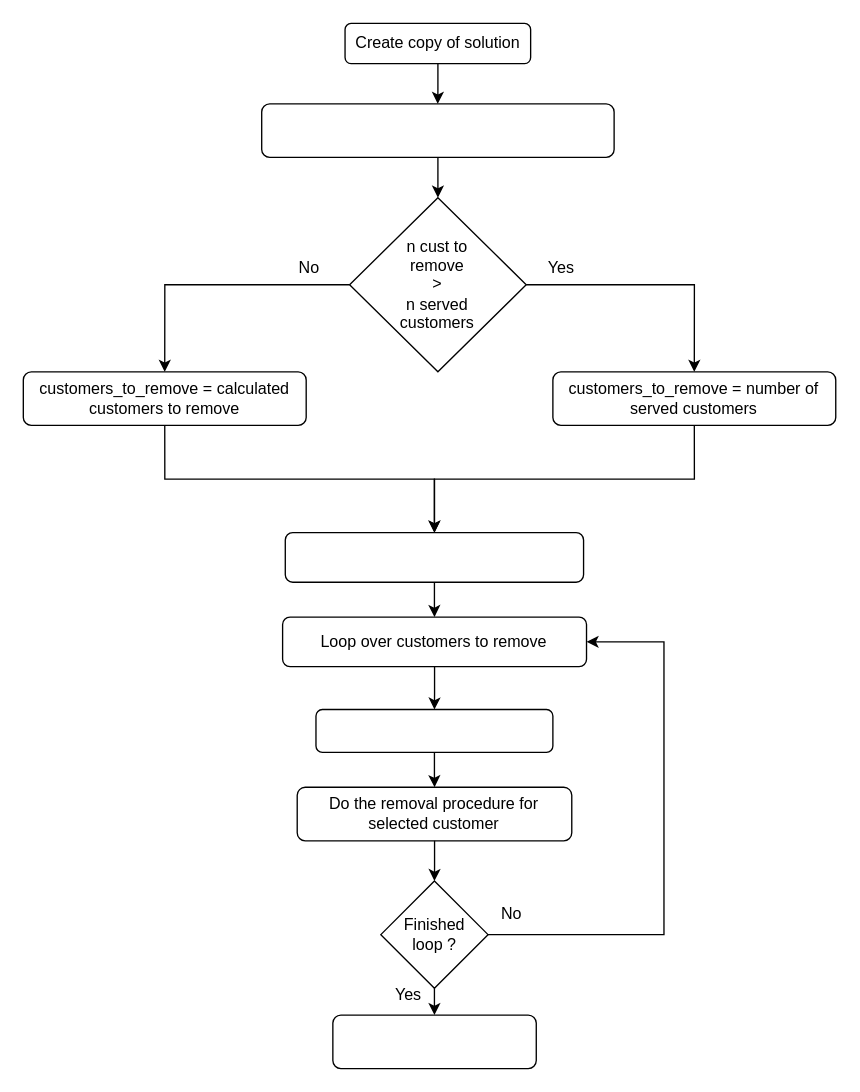
This 860x1092 diagram has some shape labels left out. The centre of each missing label's shape, as x and y in pixels:
"Compute number of customers to remove and number of served customers" belongs at point (437, 130).
"Find route of customer i" belongs at point (434, 730).
"Randomly sample customers_to_remove customers without replacement" belongs at point (434, 556).
"Remove empty routes and return" belongs at point (434, 1041).
